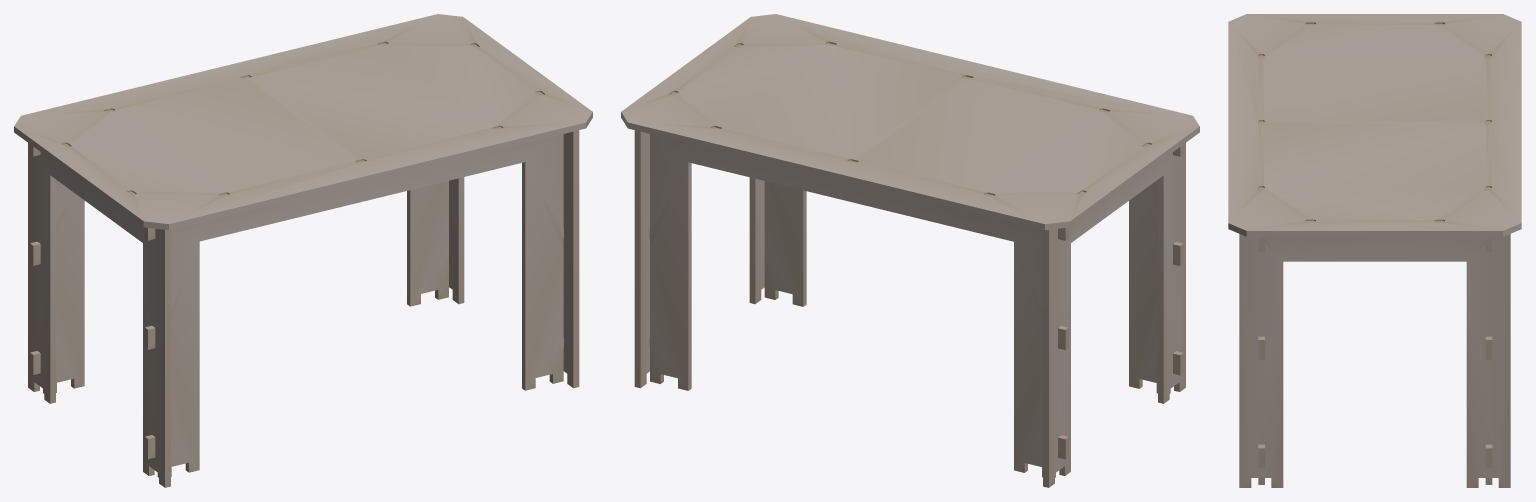
File: NODO_MESA_COMEDOR_PORTICO_PARAISO_MDF18_DXF_V2.glb
The picture shows the model from 3 angles, left to right: view 1: azimuth 30°, elevation 25°; view 2: azimuth 150°, elevation 25°; view 3: azimuth 270°, elevation 25°; orthographic projection.
Parts seen in each view (by area): view 1: Tapa MDF 18mm, Bastidor longitudinal 12, Bastidor transversal 13, Bastidor longitudinal 11, Bastidor transversal 14; view 2: Tapa MDF 18mm, Bastidor longitudinal 11, Bastidor transversal 13, Bastidor longitudinal 12, Bastidor transversal 14; view 3: Tapa MDF 18mm, Bastidor transversal 14, Bastidor longitudinal 11, Bastidor longitudinal 12.
Boxes of the visible parts, x1,y1,x2,y2 form: Tapa MDF 18mm: (14,14,592,230); Bastidor longitudinal 12: (144,127,563,477); Bastidor transversal 13: (28,143,170,487); Bastidor longitudinal 11: (30,43,448,393); Bastidor transversal 14: (449,44,579,388); Tapa MDF 18mm: (621,14,1199,230); Bastidor longitudinal 11: (649,127,1068,477); Bastidor transversal 13: (1043,143,1185,487); Bastidor longitudinal 12: (764,43,1183,393); Bastidor transversal 14: (634,44,764,388); Tapa MDF 18mm: (1228,14,1521,236); Bastidor transversal 14: (1239,221,1510,487); Bastidor longitudinal 11: (1485,55,1492,484); Bastidor longitudinal 12: (1258,55,1264,484).
Bounding box in the file's own units: 1.4 × 0.799 × 0.8.
